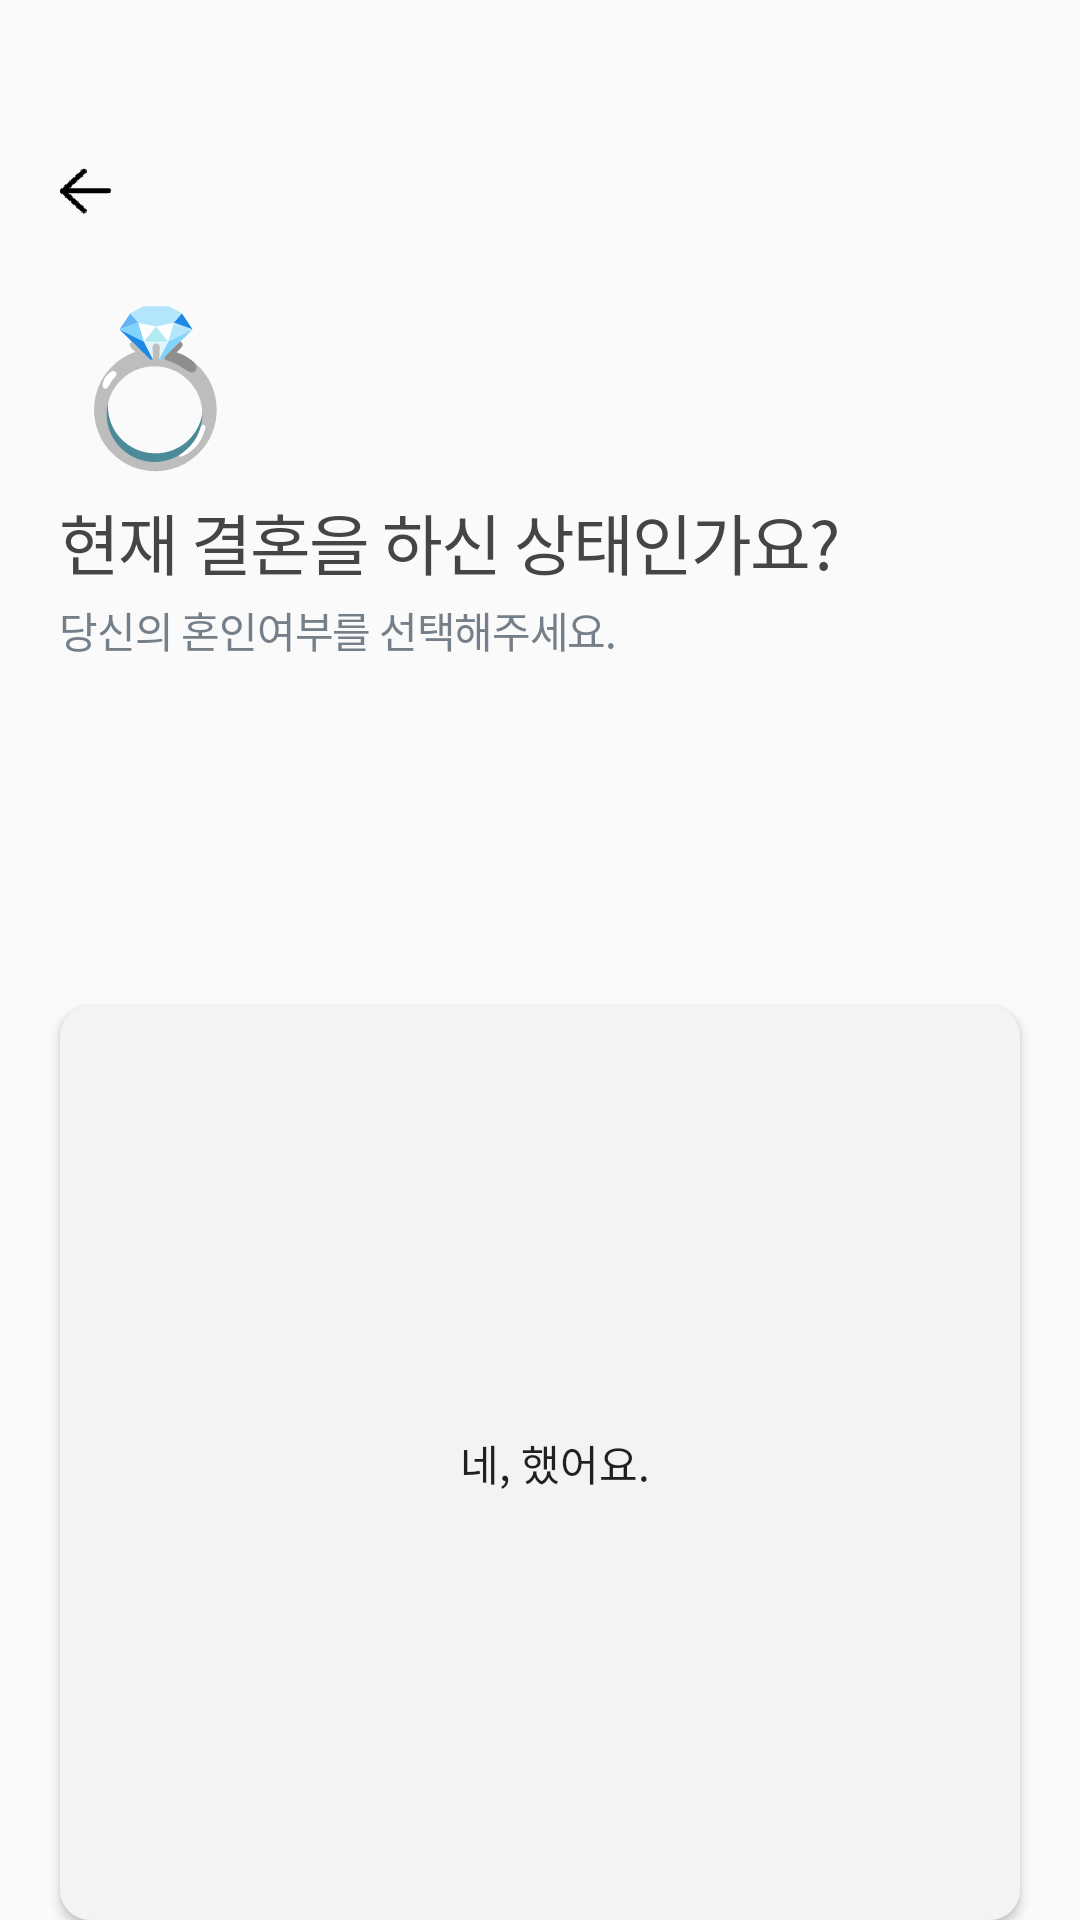

Icon click points for this 1080px x 1920px phone screenshot, format (x=x, y=y):
before: (x=85, y=191)
